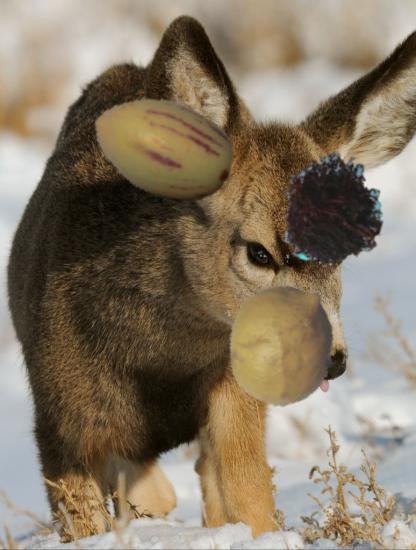Lemon: (220, 282, 344, 406)
Pepino: (89, 79, 235, 225)
Rambutan: (273, 148, 393, 268)
